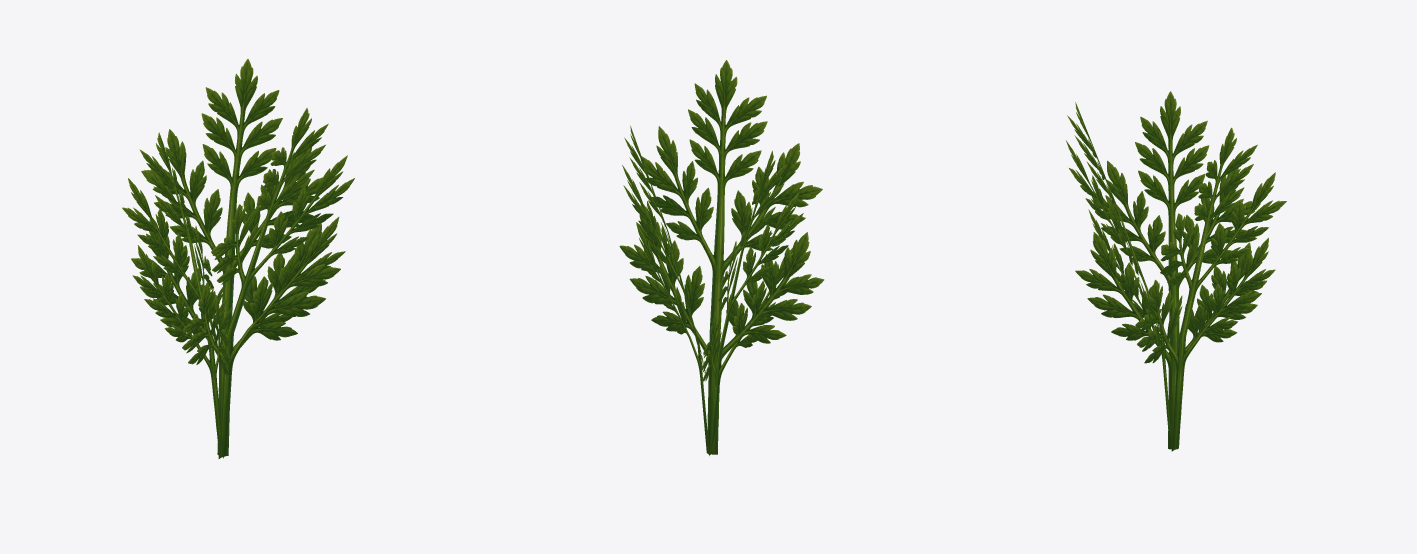
Rendered from CarrotPlant01.fbx.
3 views of the same model, side by side, from view 1: azimuth 30°, elevation 25°; view 2: azimuth 150°, elevation 25°; view 3: azimuth 270°, elevation 25° (orthographic). The views are drawn at different scales.
Visible parts, largest first — view 1: CarrotPlant01_LOD0; view 2: CarrotPlant01_LOD0; view 3: CarrotPlant01_LOD0.
Boxes of the visible parts, x1,y1,x2,y2 form: CarrotPlant01_LOD0: [122, 59, 354, 458]; CarrotPlant01_LOD0: [619, 60, 824, 455]; CarrotPlant01_LOD0: [1066, 91, 1286, 451].
Size of what is drawn, in the model's own units: 0.344 by 0.3096 by 0.3287.
